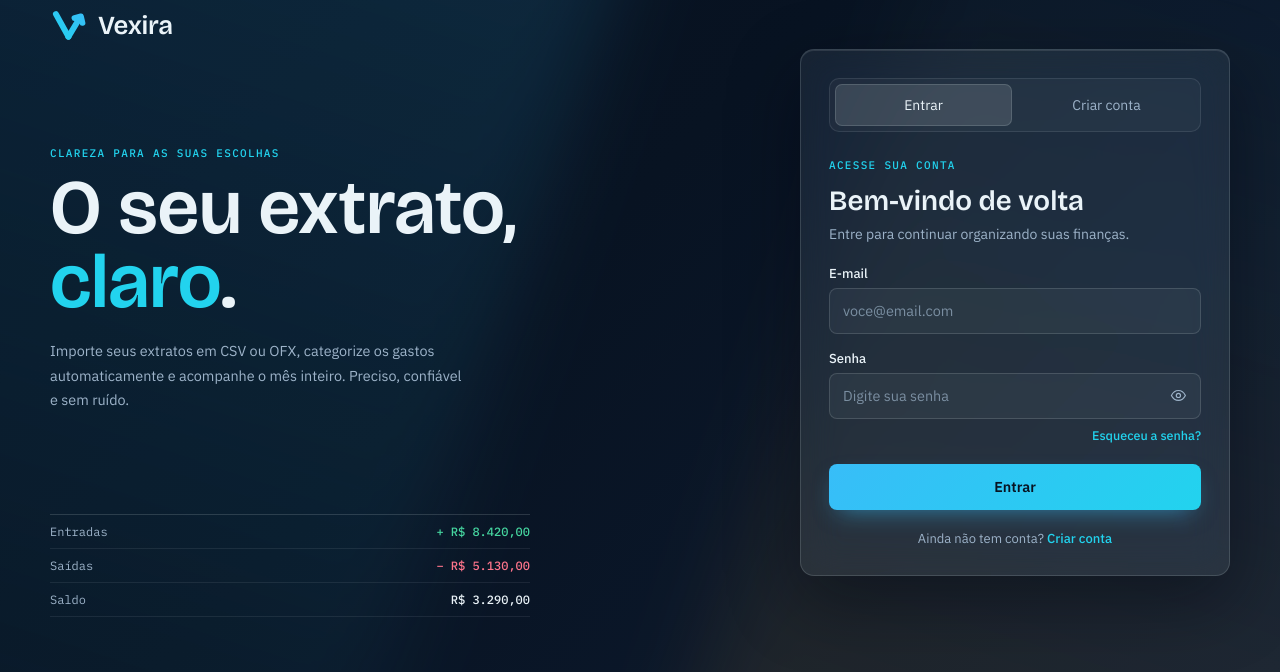
Test: sessão › dá para voltar do cadastro para o login
The image size is (1280, 672).
Click the button "Criar conta" at x=1080, y=538, box [1047,530,1112,546]
(page scrolled)
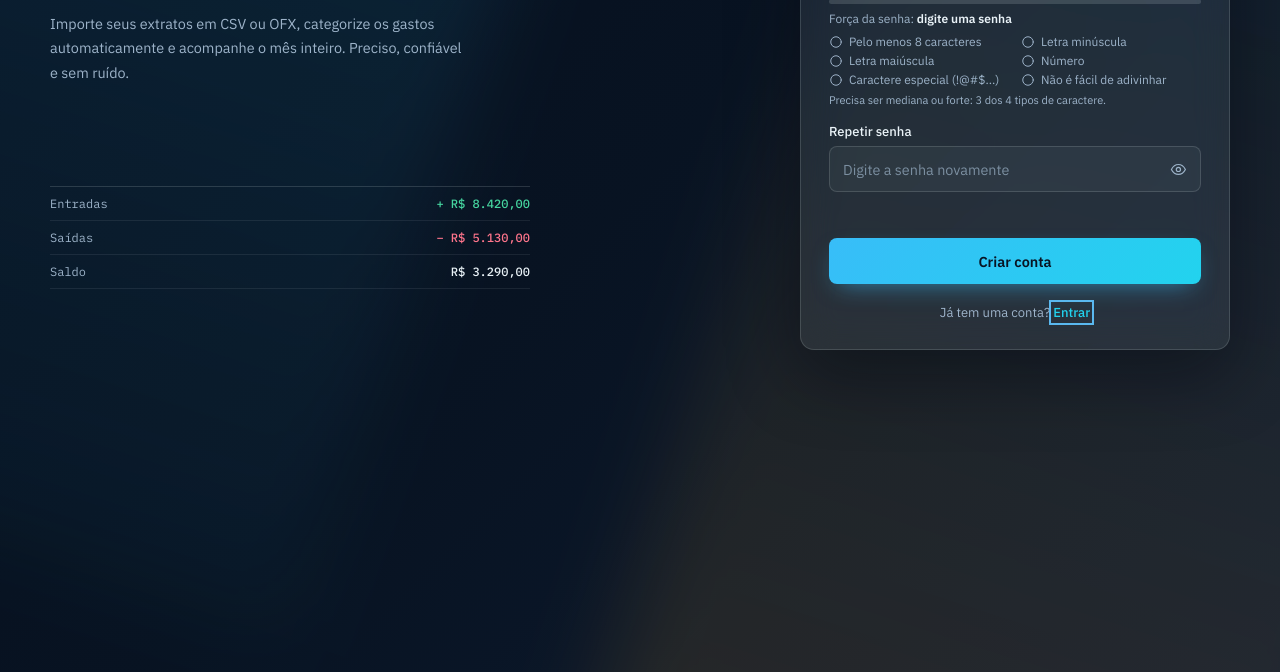
Click the button "Entrar" at x=1072, y=312, box [1053,304,1090,321]
(page scrolled)
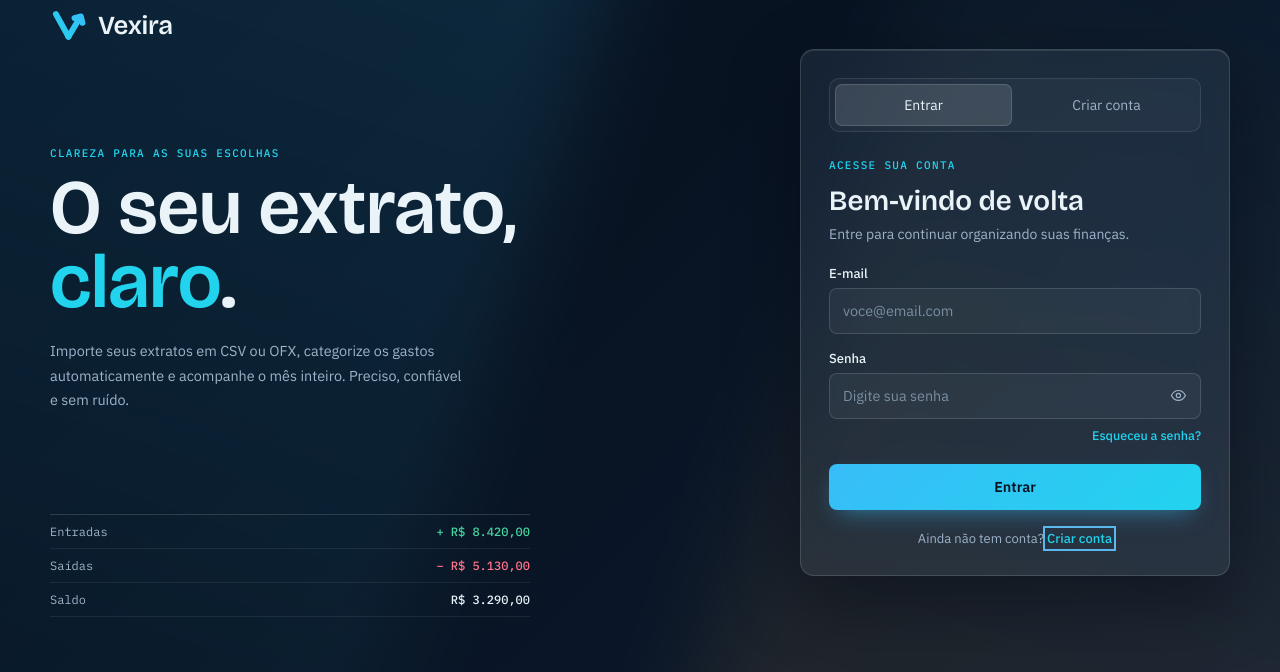
expect the heading "Bem-vindo de volta" is shown: met, box [829,184,1084,218]
expect the label labelled "Repetir senha" is gone: met
